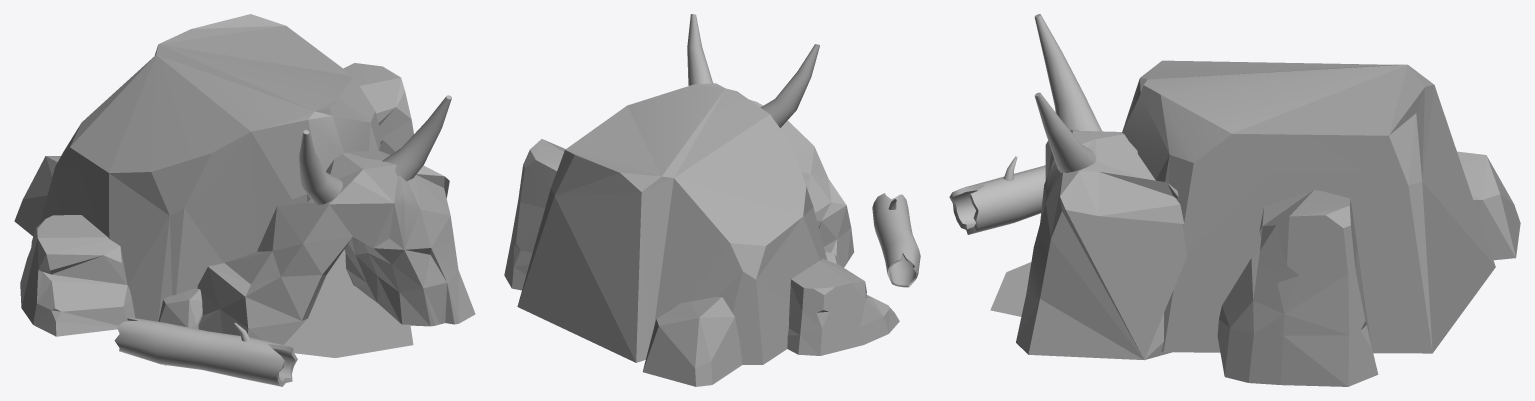
File: Trollbarrack_lvl1.fbx
3 views of the same model, side by side, from view 1: azimuth 30°, elevation 25°; view 2: azimuth 150°, elevation 25°; view 3: azimuth 270°, elevation 25° (orthographic). The views are drawn at different scales.
Parts seen in each view (by area): view 1: Lvl1_TrollBarrack; view 2: Lvl1_TrollBarrack; view 3: Lvl1_TrollBarrack.
Boxes of the visible parts, box(x1,y1,x2,y2) form: Lvl1_TrollBarrack: box(14, 14, 475, 386); Lvl1_TrollBarrack: box(504, 14, 920, 386); Lvl1_TrollBarrack: box(949, 14, 1520, 386).
Bounding box in the file's own units: 5.71 × 3.01 × 6.23.
